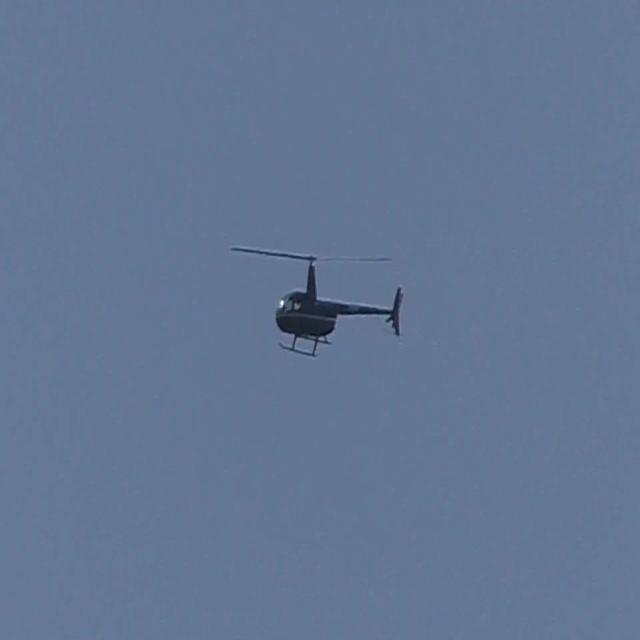CIV_HELO: (274, 255, 404, 358)
